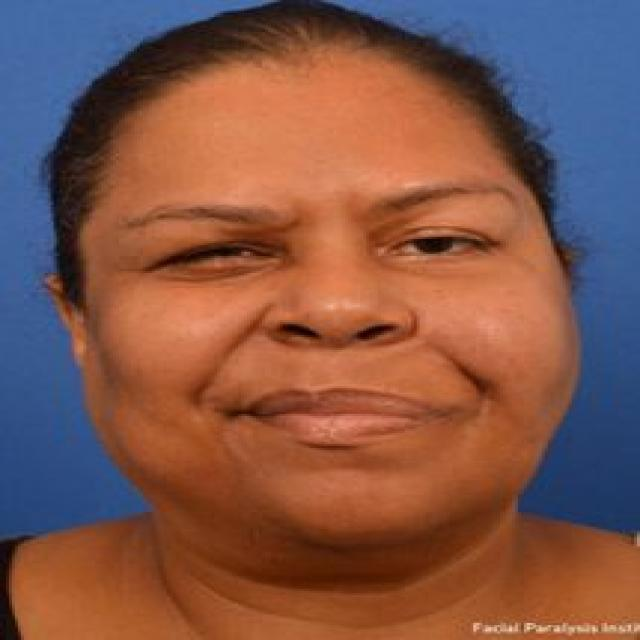stroke_face: (61, 33, 587, 567)
